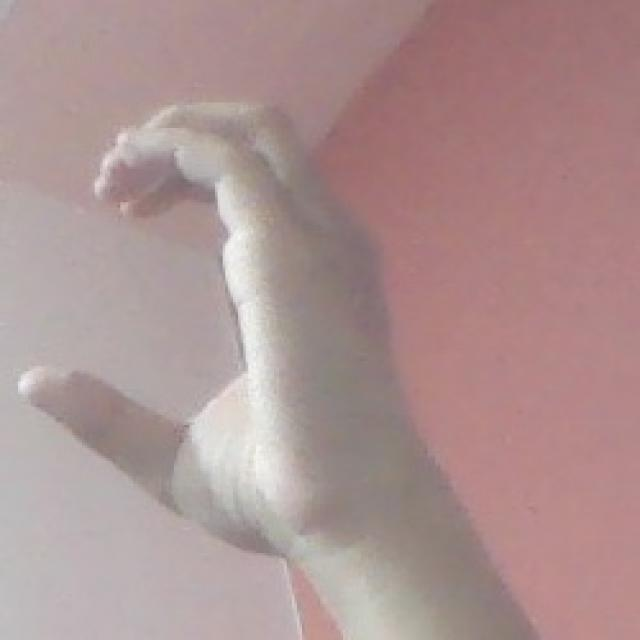Alphabet-C: (17, 86, 426, 577)
